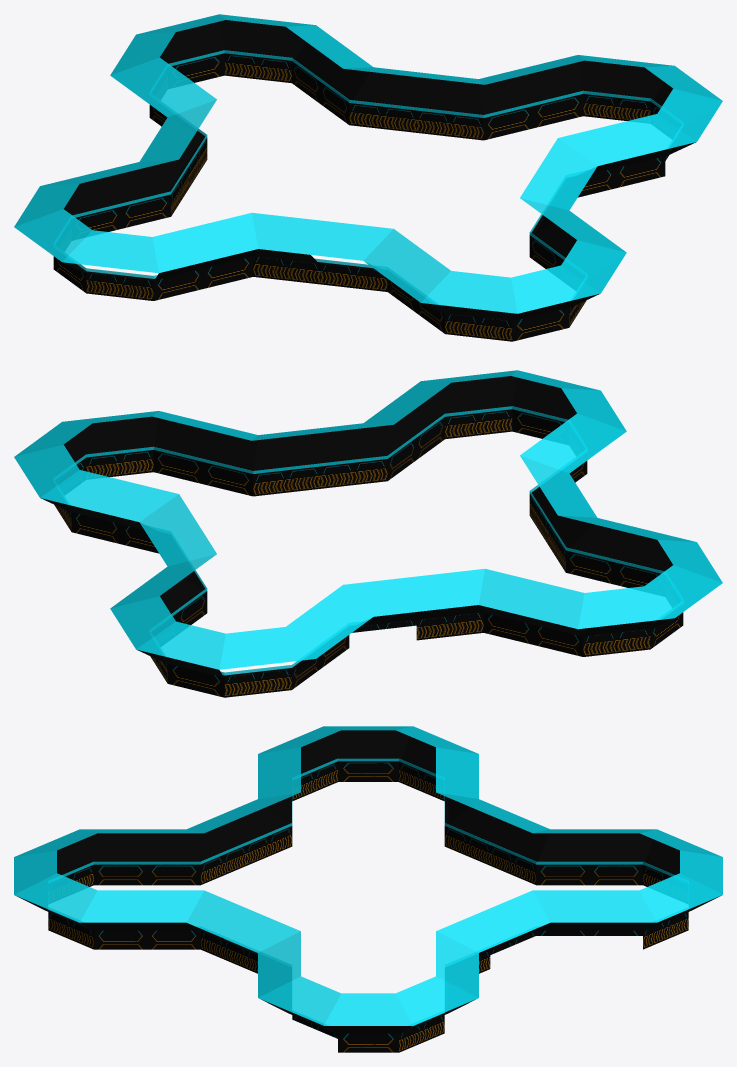
Rendered from walls.fbx.
3 views of the same model, one above another, from view 1: azimuth 30°, elevation 25°; view 2: azimuth 150°, elevation 25°; view 3: azimuth 270°, elevation 25° (orthographic). The views are drawn at different scales.
Parts seen in each view (by area): view 1: wallAng02l01, wallAng02l01.020, wallAng02l01.036, wallAng02l01.055, wallAng02l01.013, wallAng02l01.023, wallAng02l01.043, wallAng02l01.033, wallAng01l01.016, wallAng02l01.004, wallAng02l01.014, wallAng02l01.042 (+71 smaller); view 2: wallAng02l01.016, wallAng02l01.006, wallAng02l01.050, wallAng02l01.040, wallAng02l01.013, wallAng02l01.023, wallAng02l01.033, wallAng02l01.043, wallAng01l01.020, wallAng02l01.007, wallAng02l01.024, wallAng02l01.032 (+70 smaller); view 3: wallAng02l01.009, wallAng02l01.027, wallAng02l01.047, wallAng02l01.029, wallAng01l01.013, wallAng01l01.023, wallAng02l01.018, wallAng02l01.038, wallAng02l01.010, wallAng02l01.028, wallAng02l01.017, wallAng02l01.021 (+64 smaller).
Boxes of the visible parts, x1=… form: wallAng02l01: x1=152, y1=213, x2=258, y2=272; wallAng02l01.020: x1=558, y1=114, x2=696, y2=165; wallAng02l01.036: x1=559, y1=114, x2=696, y2=165; wallAng02l01.055: x1=153, y1=213, x2=257, y2=272; wallAng02l01.013: x1=364, y1=229, x2=450, y2=302; wallAng02l01.023: x1=110, y1=57, x2=216, y2=117; wallAng02l01.043: x1=363, y1=229, x2=450, y2=302; wallAng02l01.033: x1=111, y1=58, x2=216, y2=116; wallAng01l01.016: x1=479, y1=62, x2=582, y2=114; wallAng02l01.004: x1=63, y1=230, x2=158, y2=273; wallAng02l01.014: x1=421, y1=271, x2=517, y2=313; wallAng02l01.042: x1=421, y1=271, x2=516, y2=313; wallAng02l01.016: x1=40, y1=470, x2=178, y2=521; wallAng02l01.006: x1=478, y1=569, x2=584, y2=628; wallAng02l01.050: x1=479, y1=569, x2=584, y2=628; wallAng02l01.040: x1=41, y1=470, x2=178, y2=521; wallAng02l01.013: x1=520, y1=414, x2=626, y2=473; wallAng02l01.023: x1=286, y1=585, x2=373, y2=658; wallAng02l01.033: x1=286, y1=585, x2=372, y2=658; wallAng02l01.043: x1=520, y1=413, x2=625, y2=472; wallAng01l01.020: x1=154, y1=418, x2=257, y2=470; wallAng02l01.007: x1=578, y1=586, x2=673, y2=629; wallAng02l01.024: x1=219, y1=627, x2=315, y2=669; wallAng02l01.032: x1=220, y1=627, x2=315, y2=669; wallAng02l01.009: x1=80, y1=890, x2=203, y2=922; wallAng02l01.027: x1=533, y1=890, x2=656, y2=922; wallAng02l01.047: x1=80, y1=890, x2=203, y2=922; wallAng02l01.029: x1=533, y1=890, x2=656, y2=922; wallAng01l01.013: x1=83, y1=833, x2=198, y2=862; wallAng01l01.023: x1=538, y1=833, x2=653, y2=862; wallAng02l01.018: x1=324, y1=993, x2=412, y2=1025; wallAng02l01.038: x1=324, y1=993, x2=412, y2=1025; wallAng02l01.010: x1=14, y1=873, x2=97, y2=922; wallAng02l01.028: x1=639, y1=873, x2=722, y2=922; wallAng02l01.017: x1=395, y1=976, x2=477, y2=1025; wallAng02l01.021: x1=259, y1=976, x2=341, y2=1025.
Bounding box in the file's own units: 9300 × 805 × 9300.
